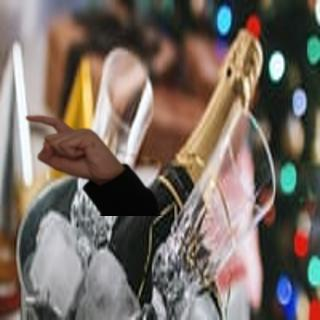WHY: (23, 105, 121, 180)
